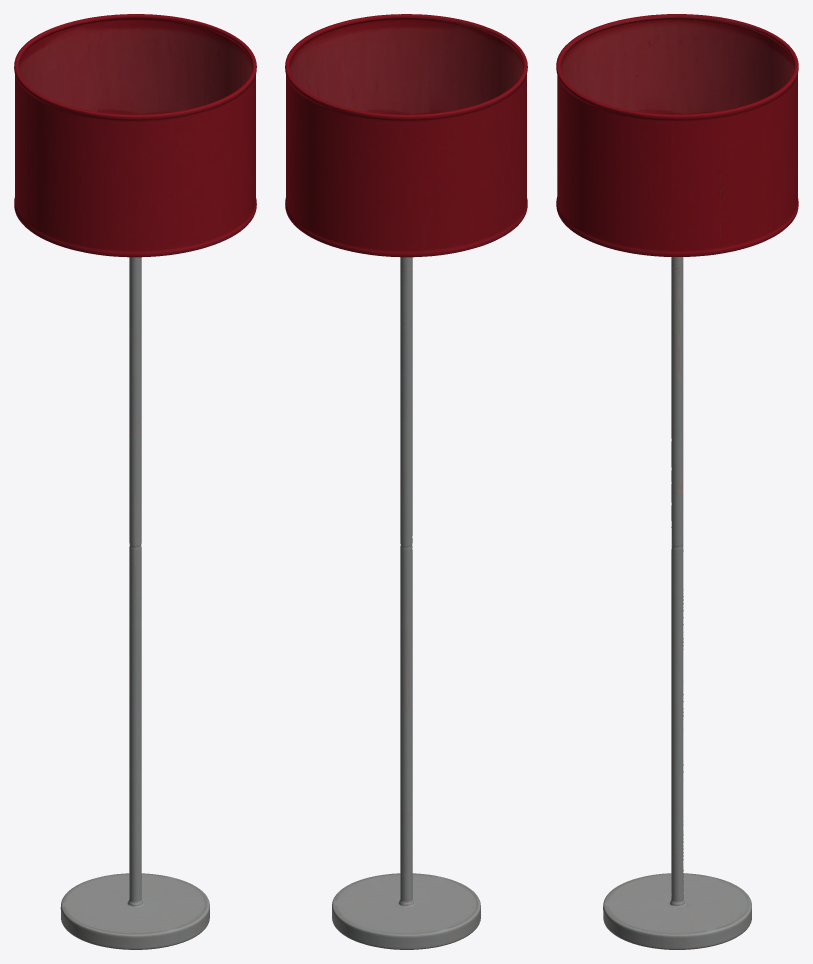
Rendered from Red_Shade_Floor_Lamp_0827062122_texture.glb.
3 views of the same model, side by side, from view 1: azimuth 30°, elevation 25°; view 2: azimuth 150°, elevation 25°; view 3: azimuth 270°, elevation 25° (orthographic).
Visible parts, largest first — view 1: mesh_node; view 2: mesh_node; view 3: mesh_node.
Part boxes in pixels (x1,y1,x2,y2): mesh_node: [14, 14, 256, 949]; mesh_node: [285, 14, 527, 949]; mesh_node: [556, 14, 798, 949].
Bounding box in the file's own units: 0.4897 × 1.9 × 0.4896.
1 material, 1 textured.
